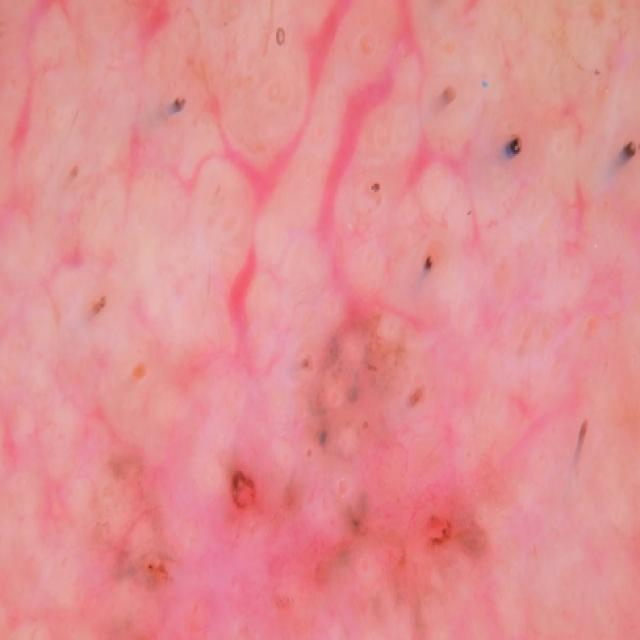Carcinoma: (411, 500, 514, 612), (228, 451, 304, 589), (121, 522, 198, 640)
